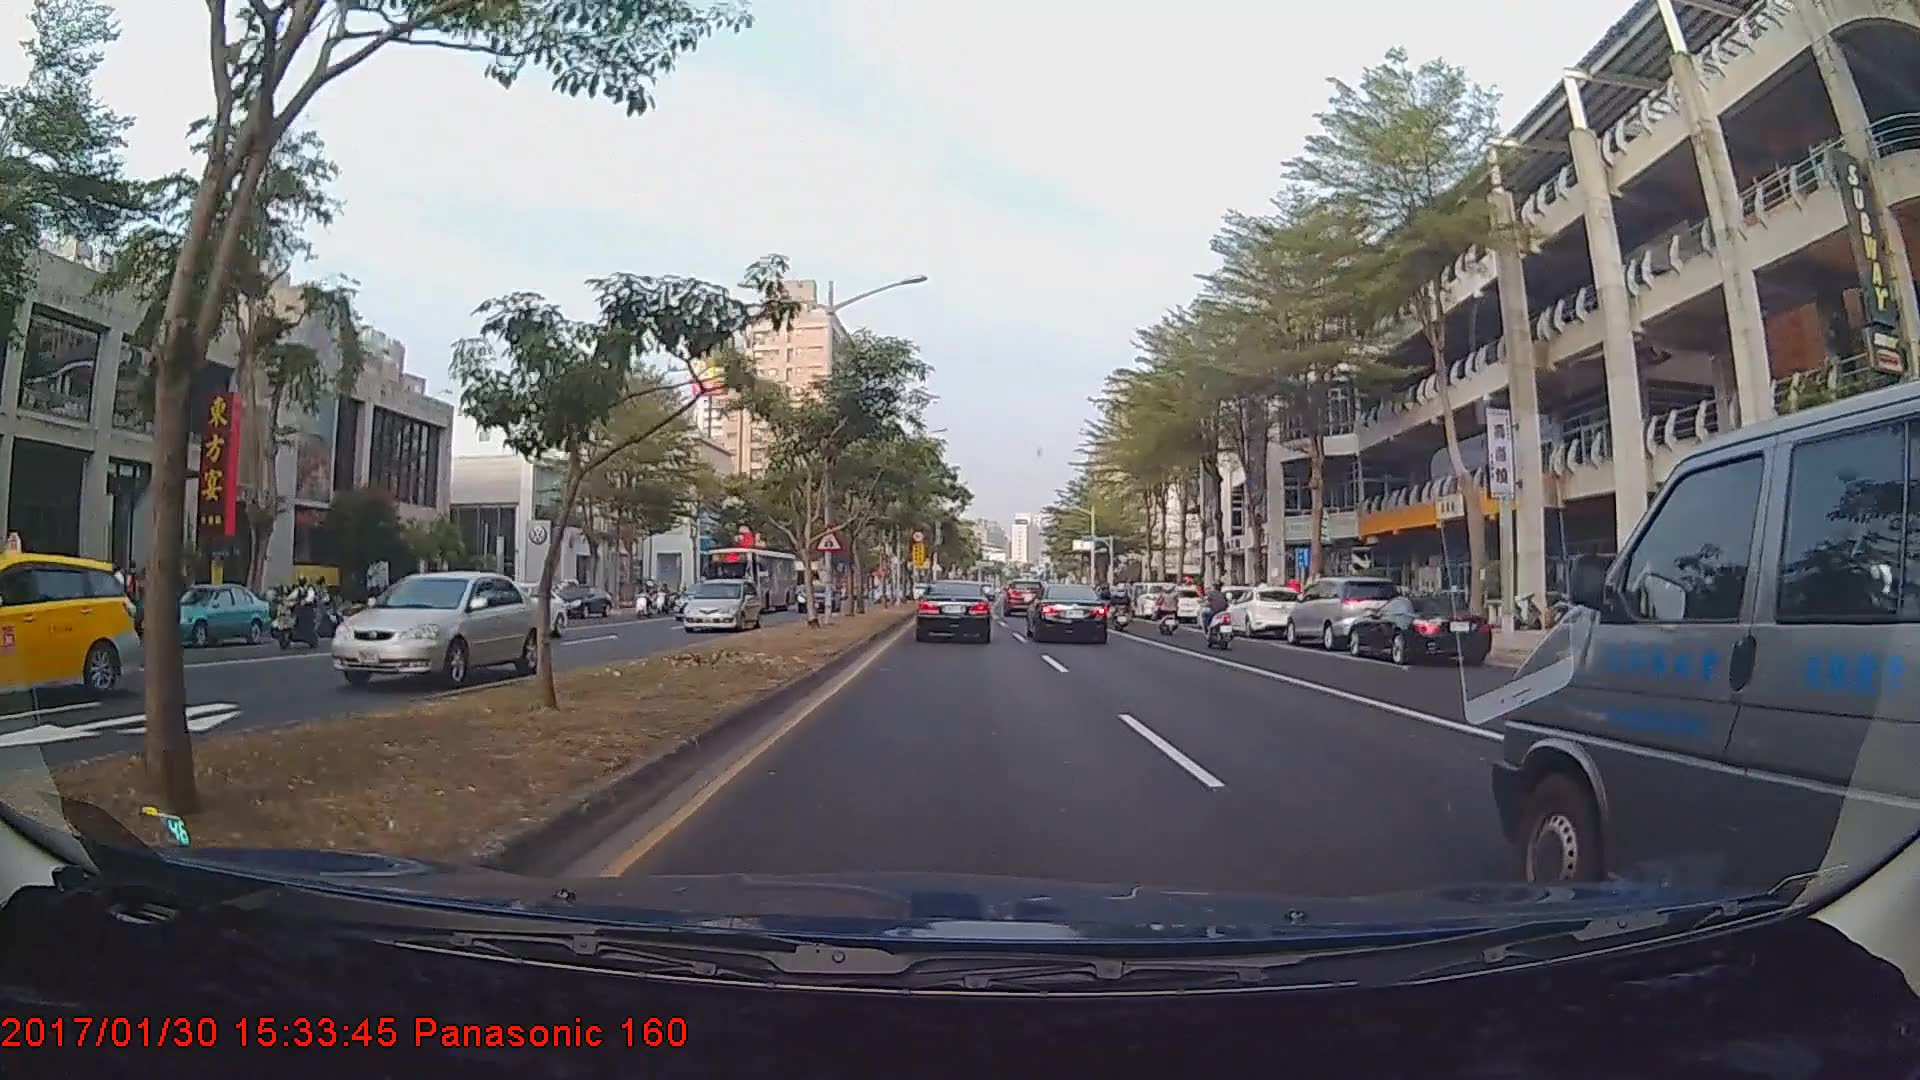rider: (270, 578, 330, 648), (1193, 582, 1242, 656), (1149, 582, 1187, 643), (1109, 584, 1133, 636)
vehicle: (1517, 400, 1915, 887), (327, 569, 543, 687), (0, 551, 140, 700), (1344, 593, 1493, 665), (1286, 573, 1406, 651), (138, 583, 268, 647), (705, 547, 797, 617), (914, 580, 994, 644), (1027, 583, 1109, 643), (678, 578, 762, 634), (1223, 584, 1304, 637), (1191, 585, 1256, 631), (670, 581, 732, 620), (1153, 587, 1202, 623), (1004, 575, 1047, 613), (793, 581, 839, 608)
